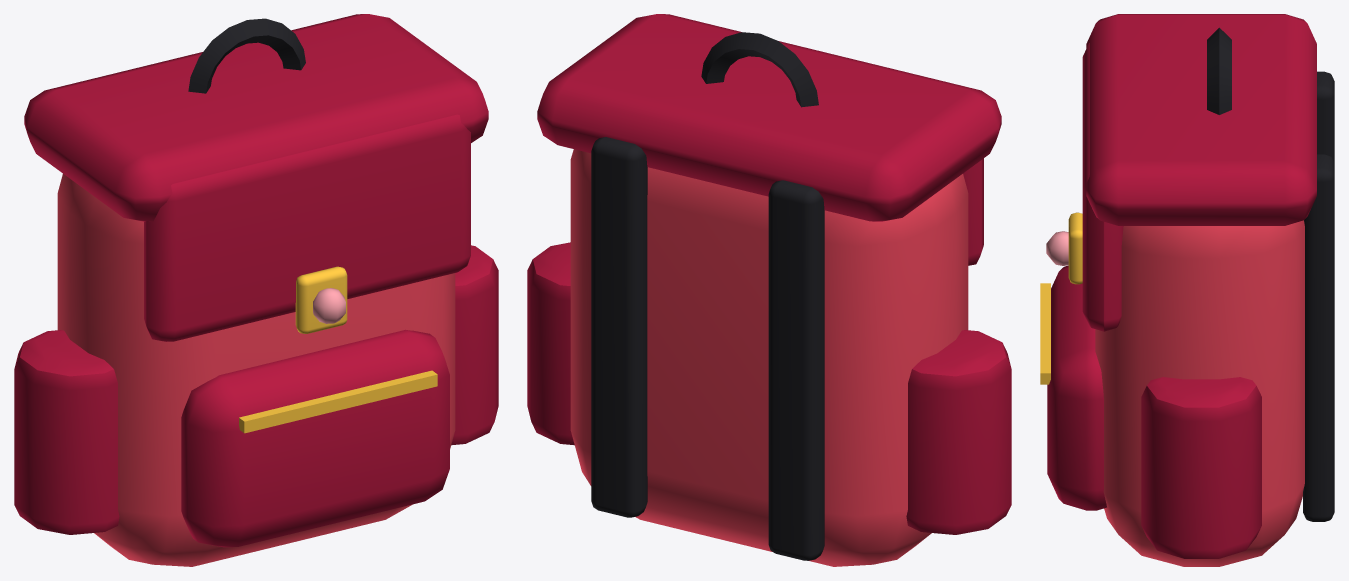
Rendered from RubyBackpack.fbx.
The picture shows the model from 3 angles, left to right: view 1: azimuth 30°, elevation 25°; view 2: azimuth 150°, elevation 25°; view 3: azimuth 270°, elevation 25°; orthographic projection. The views are drawn at different scales.
Parts seen in each view (by area): view 1: RubyBackpack; view 2: RubyBackpack; view 3: RubyBackpack.
Boxes of the visible parts, x1,y1,x2,y2 form: RubyBackpack: (14, 14, 498, 566); RubyBackpack: (527, 14, 1011, 566); RubyBackpack: (1040, 14, 1334, 566).
Size of the model in its own units: 2.89 by 2.99 by 1.66.
1 material, 1 textured.
